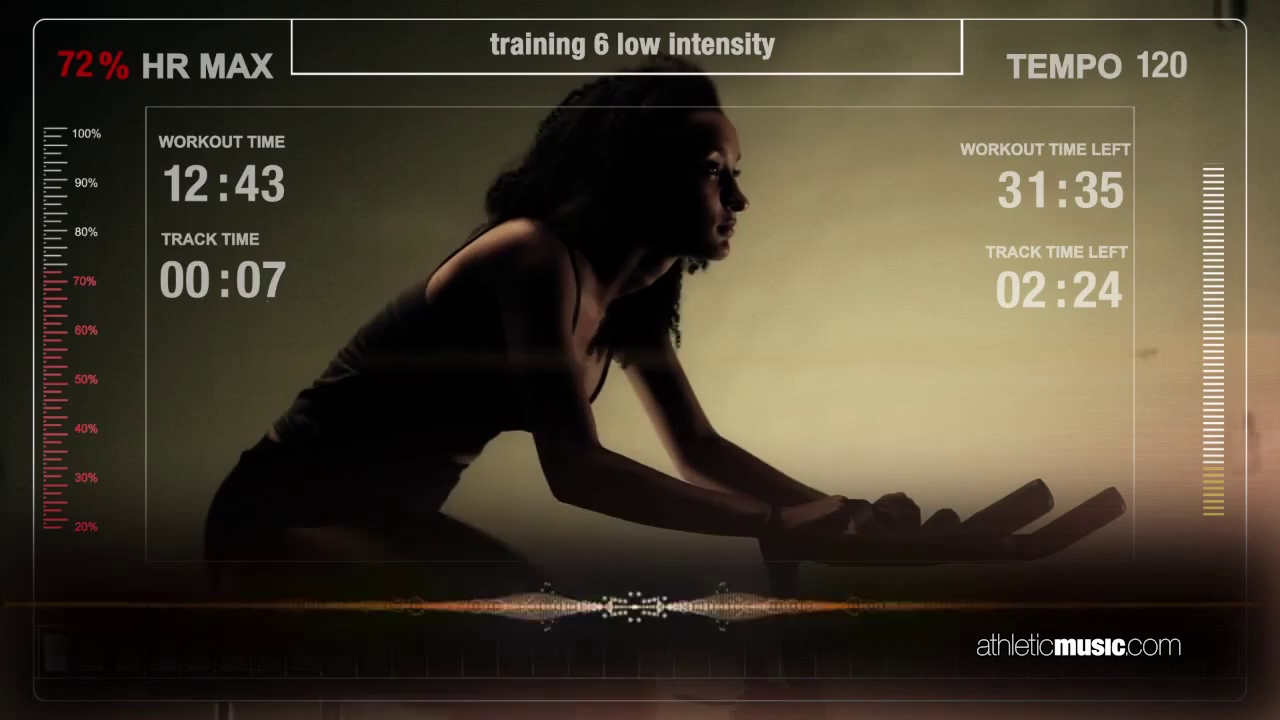person: (203, 55, 919, 602)
